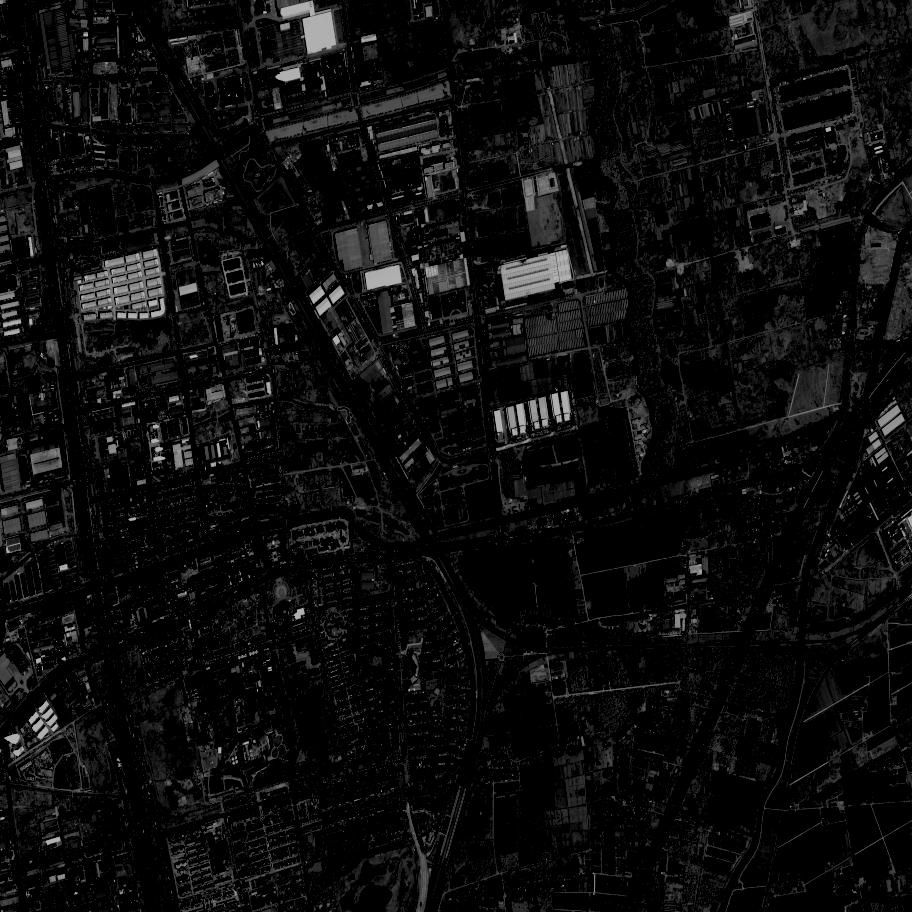storage-tank: (282, 607, 289, 617), (38, 319, 42, 325)
